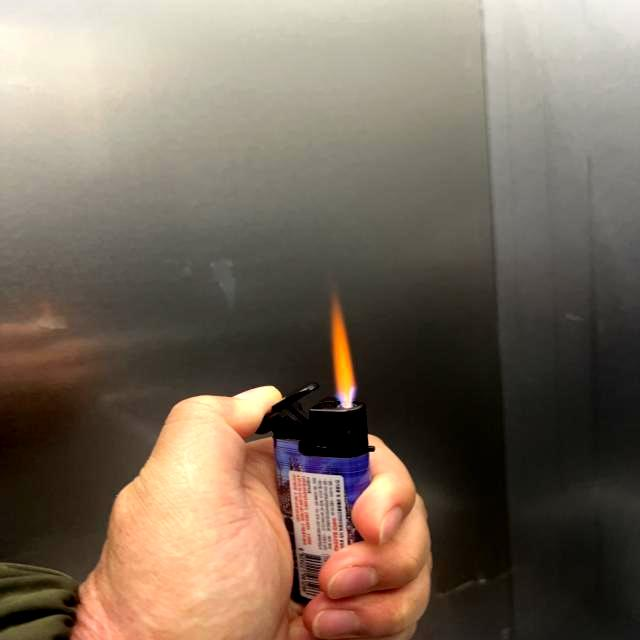fire: (329, 293, 359, 405)
